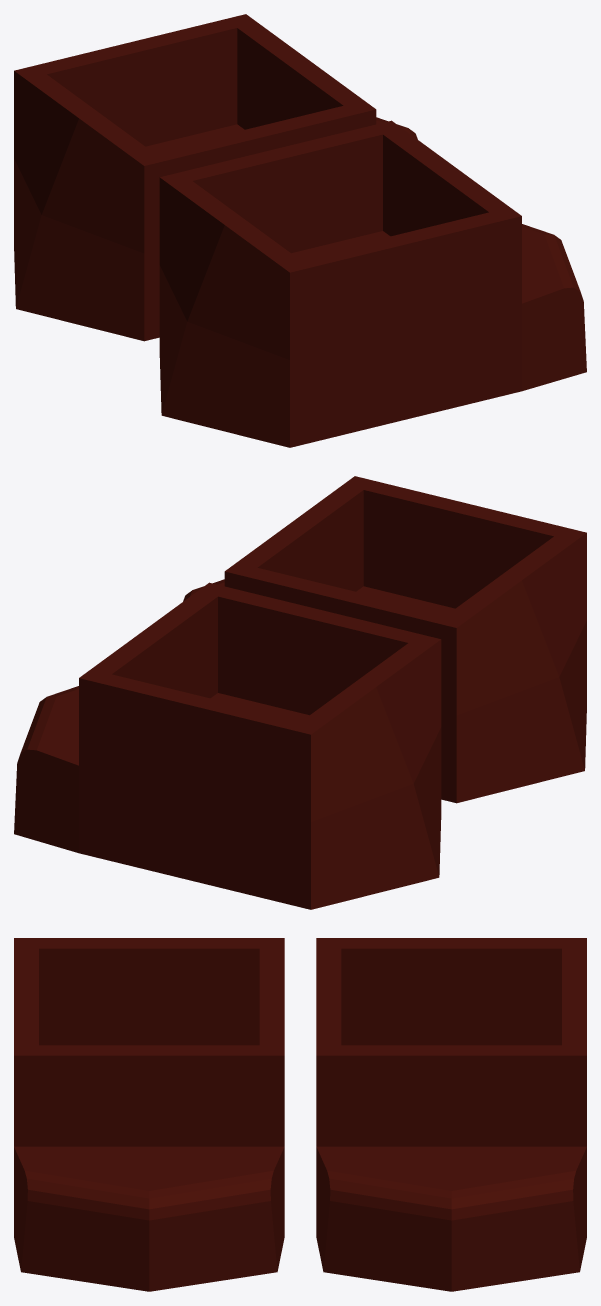
The model's file is LeatherBoots.fbx.
The picture shows the model from 3 angles, top to bottom: view 1: azimuth 30°, elevation 25°; view 2: azimuth 150°, elevation 25°; view 3: azimuth 270°, elevation 25°; orthographic projection. The views are drawn at different scales.
Parts seen in each view (by area): view 1: Leather boots; view 2: Leather boots; view 3: Leather boots.
Part boxes in pixels (box(x1,y1,x2,y2)): Leather boots: box(14, 14, 586, 447); Leather boots: box(14, 476, 586, 909); Leather boots: box(14, 938, 586, 1291).
Size of the model in its own units: 65.9 by 27.43 by 78.3.
